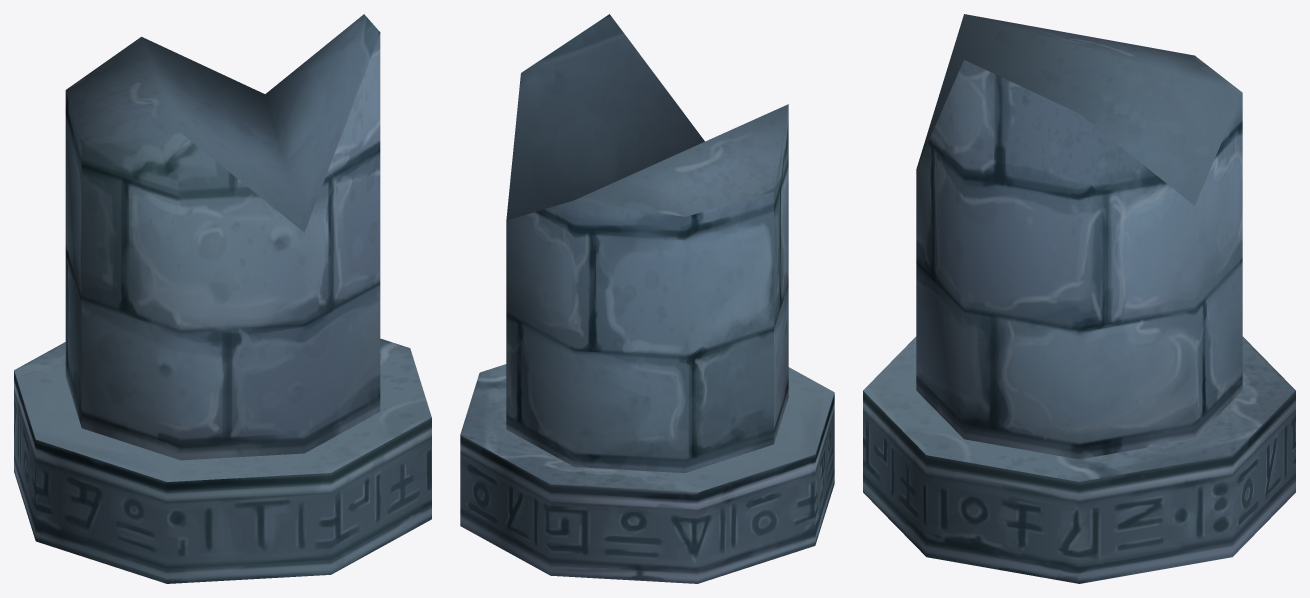
Rendered from msh_props_.Poutre.002.fbx.
3 views of the same model, side by side, from view 1: azimuth 30°, elevation 25°; view 2: azimuth 150°, elevation 25°; view 3: azimuth 270°, elevation 25° (orthographic). The views are drawn at different scales.
Visible parts, largest first — view 1: msh_props_.Poutre.002; view 2: msh_props_.Poutre.002; view 3: msh_props_.Poutre.002.
Boxes of the visible parts, box(x1,y1,x2,y2) form: msh_props_.Poutre.002: box(14, 14, 431, 583); msh_props_.Poutre.002: box(460, 14, 834, 583); msh_props_.Poutre.002: box(863, 14, 1295, 583).
Bounding box in the file's own units: 0.7088 × 0.8698 × 0.7088.
